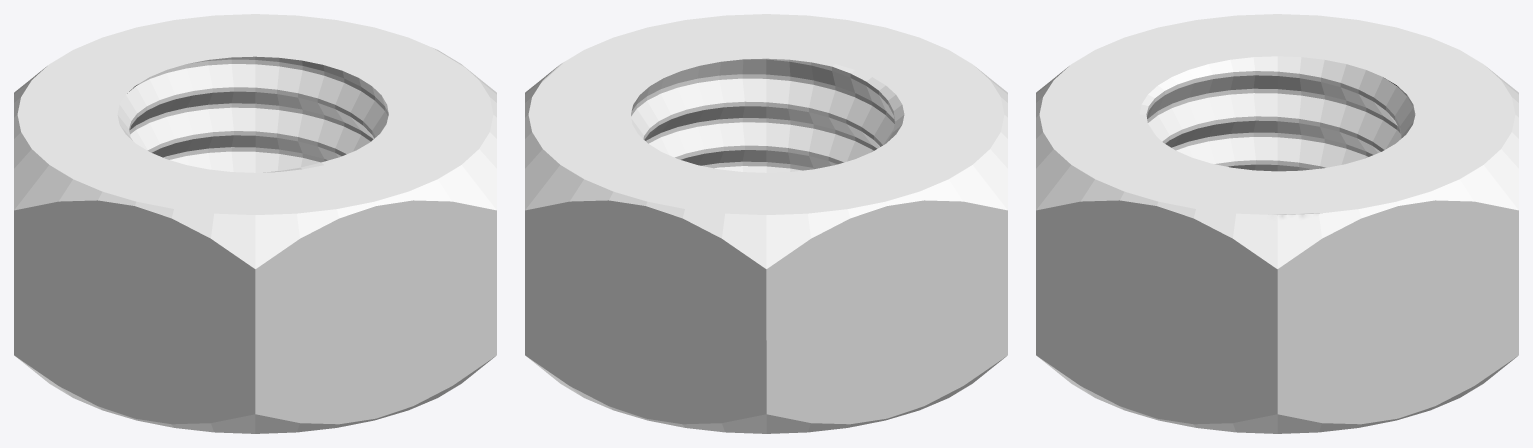
3 views of the same model, side by side, from view 1: azimuth 30°, elevation 25°; view 2: azimuth 150°, elevation 25°; view 3: azimuth 270°, elevation 25° (orthographic).
Visible parts, largest first — view 1: M4; view 2: M4; view 3: M4.
Boxes of the visible parts, x1,y1,x2,y2 form: M4: (14, 14, 496, 433); M4: (525, 14, 1007, 433); M4: (1036, 14, 1518, 433).
Size of the model in its own units: 808 by 350 by 700.
1 material, 1 textured.
